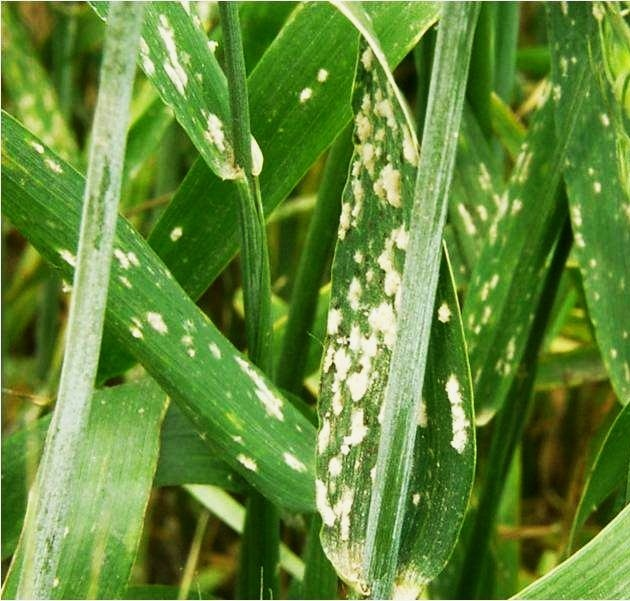Powdery Mildew: (304, 86, 467, 524)
